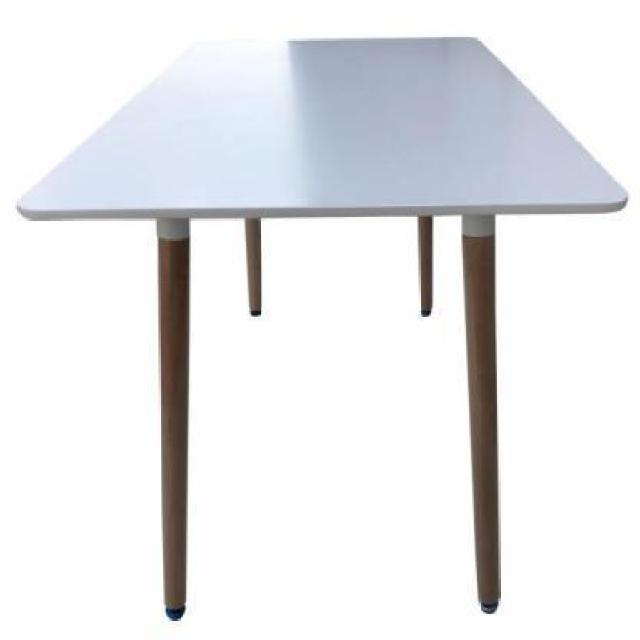tables: (16, 32, 630, 620)
